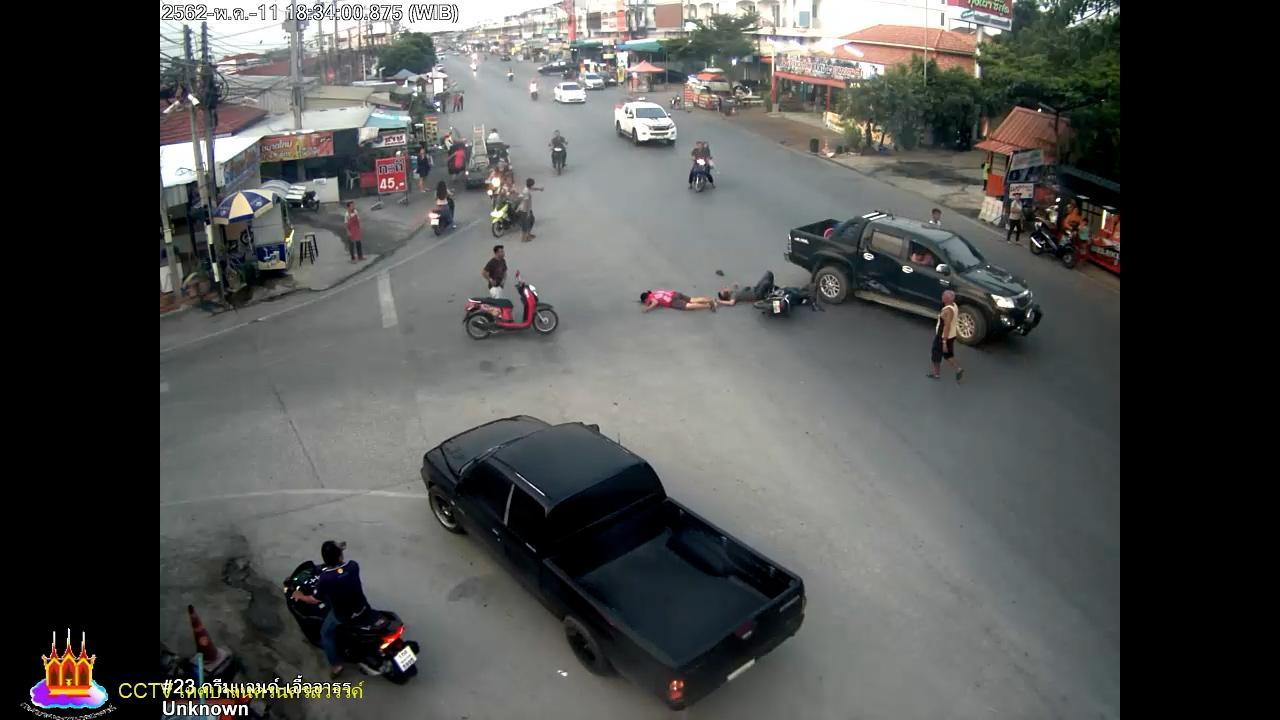accident: (715, 268, 775, 306), (638, 287, 716, 313)
